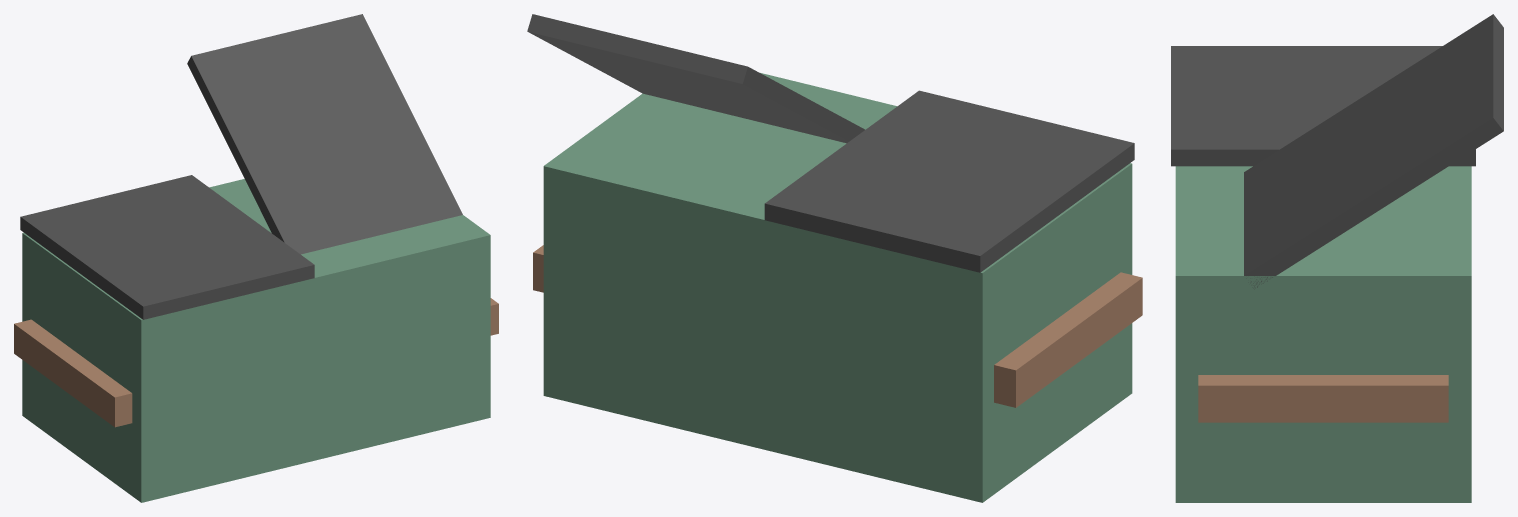
File: Prop_Dumpster.fbx
3 views of the same model, side by side, from view 1: azimuth 30°, elevation 25°; view 2: azimuth 150°, elevation 25°; view 3: azimuth 270°, elevation 25° (orthographic). The views are drawn at different scales.
Visible parts, largest first — view 1: Prop_Dumpster; view 2: Prop_Dumpster; view 3: Prop_Dumpster.
Part boxes in pixels (box(x1,y1,x2,y2)): Prop_Dumpster: box(14, 14, 498, 502); Prop_Dumpster: box(527, 14, 1142, 502); Prop_Dumpster: box(1171, 14, 1503, 502).
Size of the model in its own units: 2.42 by 1.87 by 1.46.
